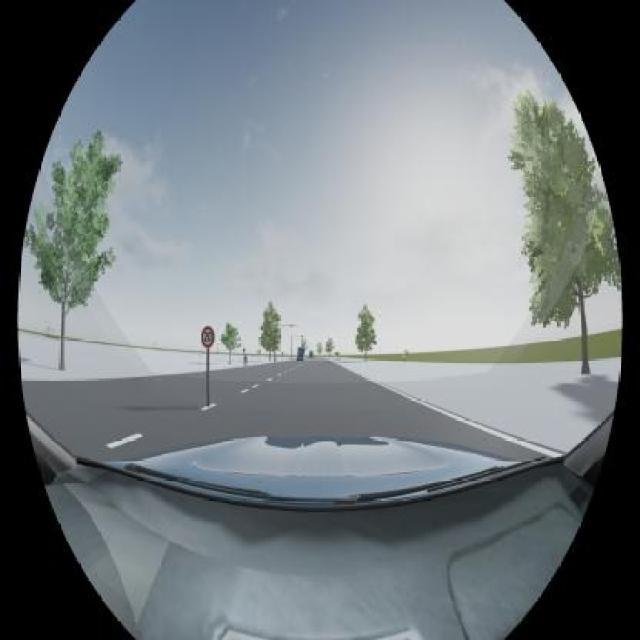forb_speed_over_20: (201, 326, 215, 348)
